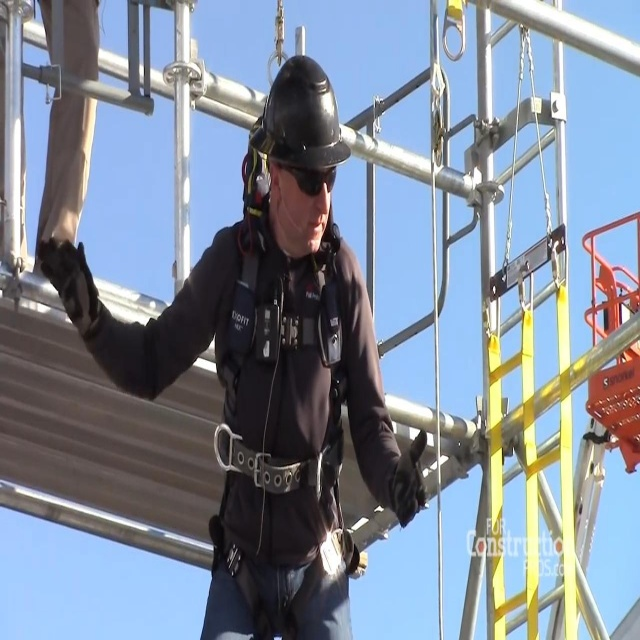Arnes_seguridad: (192, 115, 373, 640)
